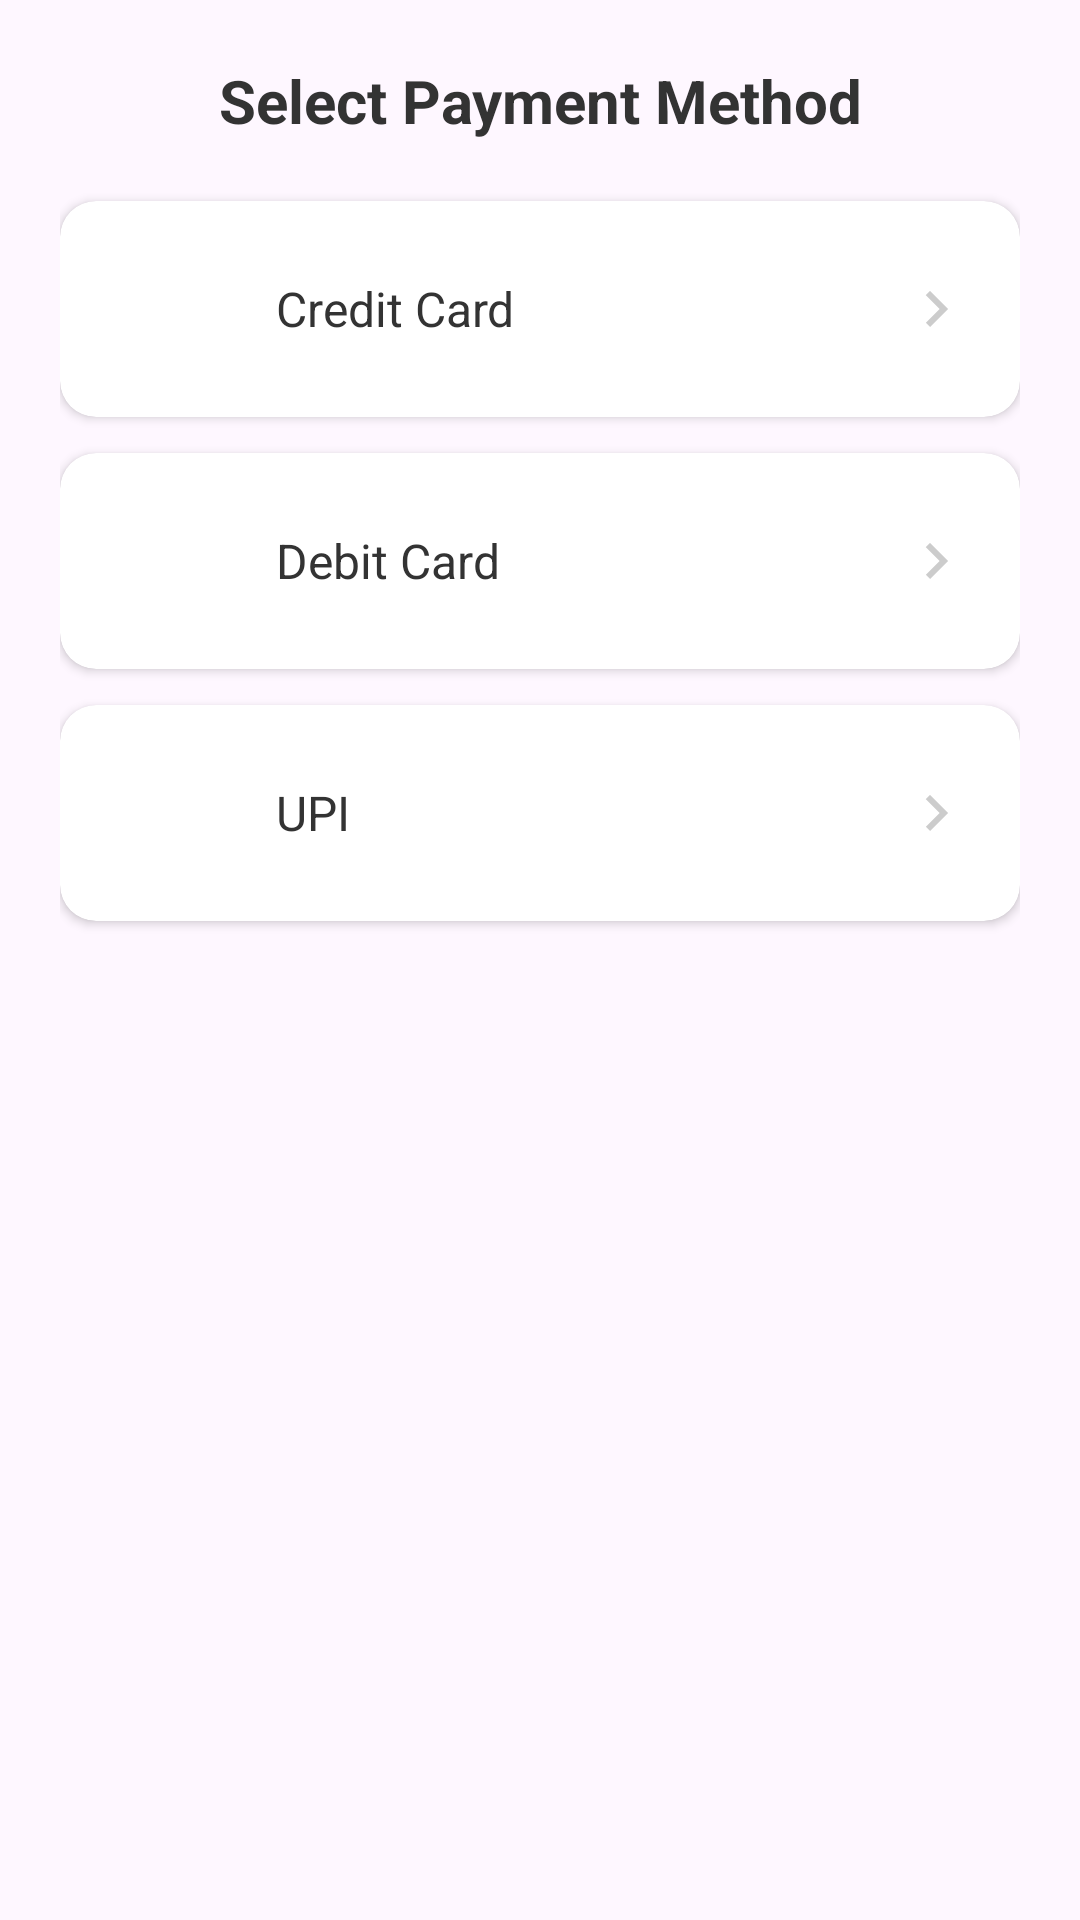

Screen size 1080px x 1920px. Icon name, then its box in pixels as Rect(x1, y1, x2, y2):
arrow right: Rect(926, 291, 948, 327), Rect(926, 543, 948, 579), Rect(926, 795, 948, 831)
